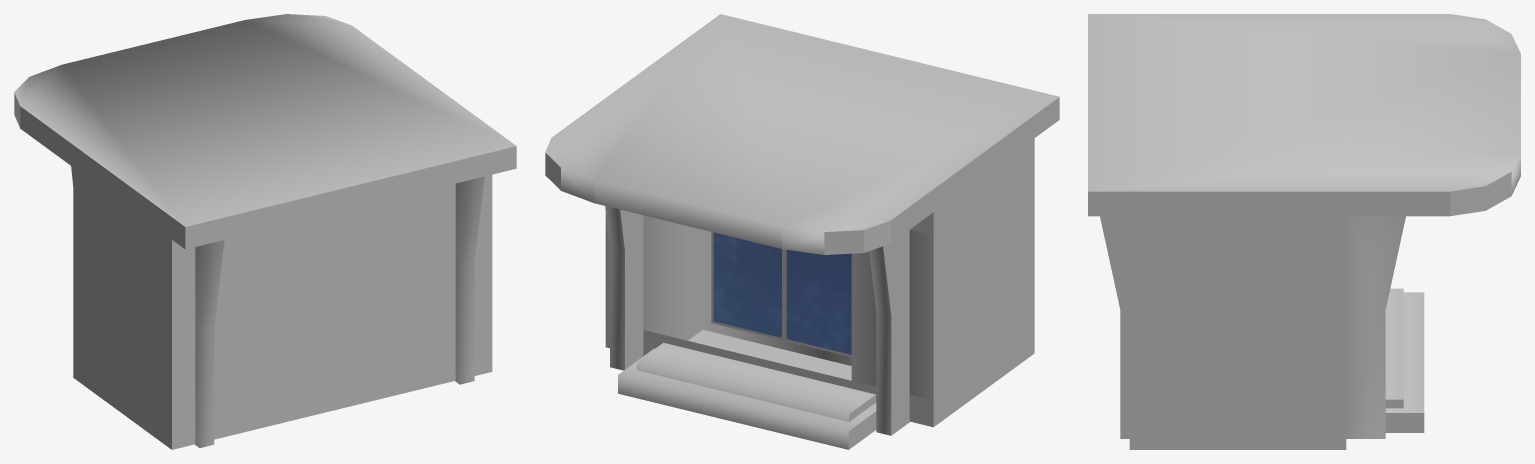
File: hirise_top01a.fbx
3 renders of one model, left to right at view 1: azimuth 30°, elevation 25°; view 2: azimuth 150°, elevation 25°; view 3: azimuth 270°, elevation 25°, orthographic. The views are drawn at different scales.
Visible parts, largest first — view 1: hirise_top01a; view 2: hirise_top01a; view 3: hirise_top01a.
Part boxes in pixels (x1,y1,x2,y2): hirise_top01a: (14, 14, 516, 449); hirise_top01a: (545, 14, 1059, 449); hirise_top01a: (1088, 14, 1520, 449).
Size of the model in its own units: 5.69 by 4.03 by 5.86.
